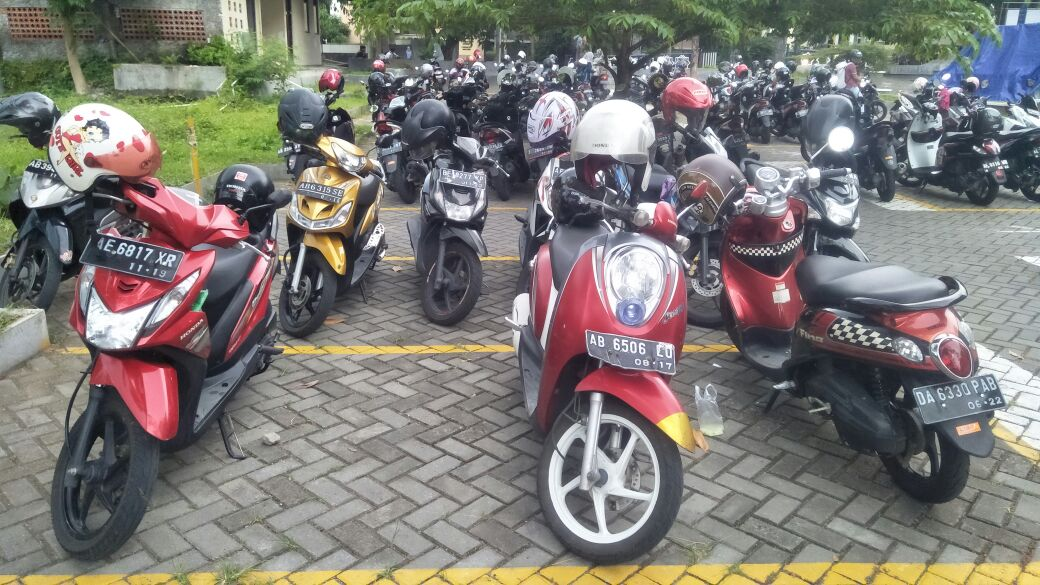plate: (79, 232, 182, 285), (586, 329, 678, 378), (913, 377, 1007, 420), (296, 180, 345, 205), (437, 166, 487, 190)
